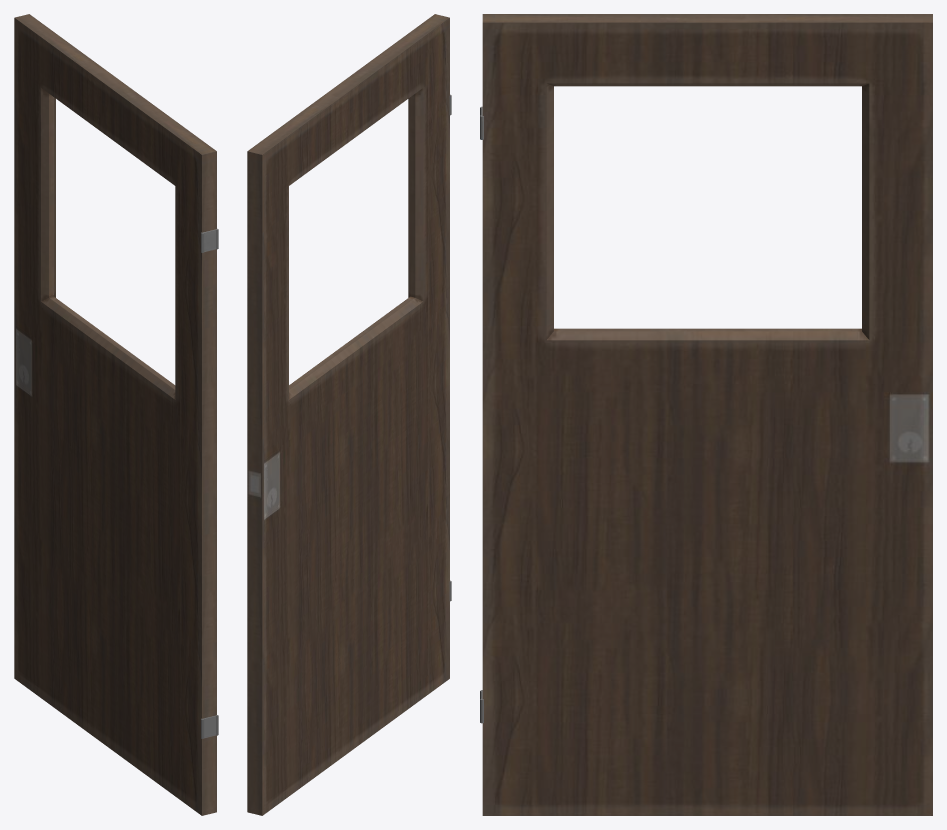
The model's file is OfficeDoor.fbx.
The picture shows the model from 3 angles, left to right: view 1: azimuth 30°, elevation 25°; view 2: azimuth 150°, elevation 25°; view 3: azimuth 270°, elevation 25°; orthographic projection. The views are drawn at different scales.
Parts seen in each view (by area): view 1: Cube; view 2: Cube; view 3: Cube.
Part boxes in pixels (x1,y1,x2,y2): Cube: (14,14,218,815); Cube: (247,14,451,815); Cube: (480,14,932,815).
Bounding box in the file's own units: 5.71 × 213 × 110.
